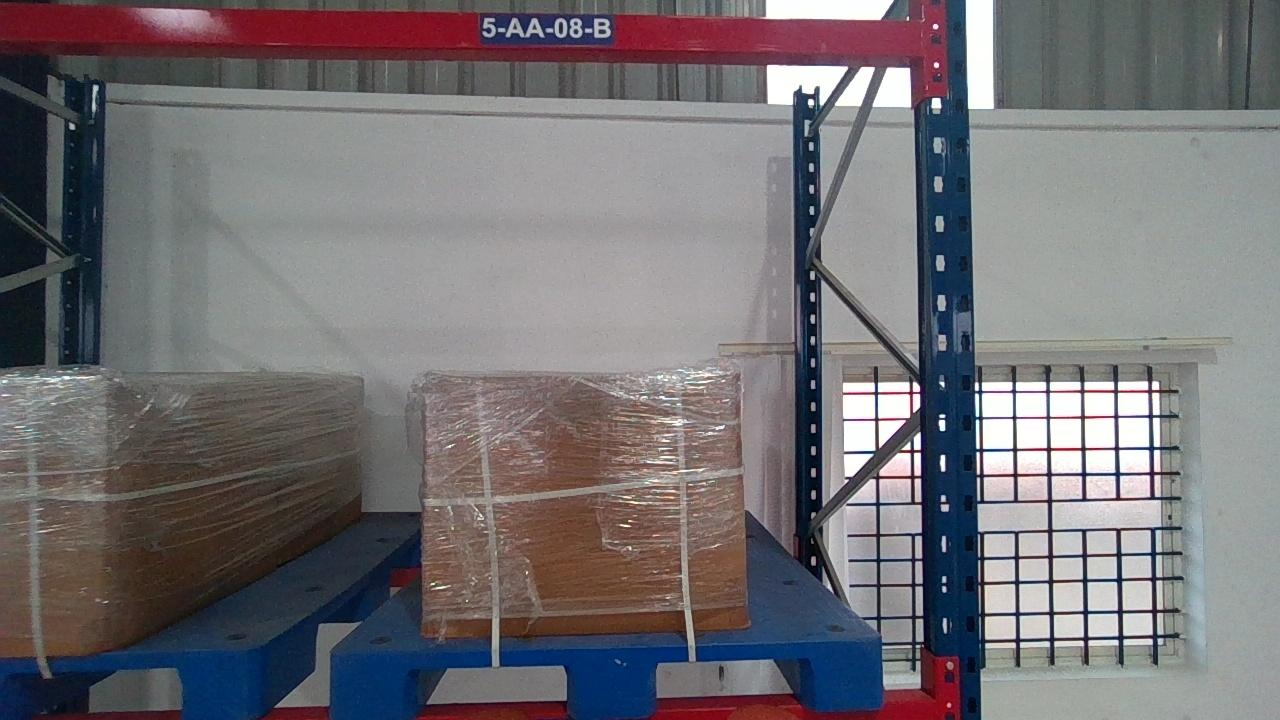h_rack: (0, 5, 921, 55), (276, 690, 940, 719)
small_pallet: (329, 640, 884, 718), (2, 649, 247, 719)
